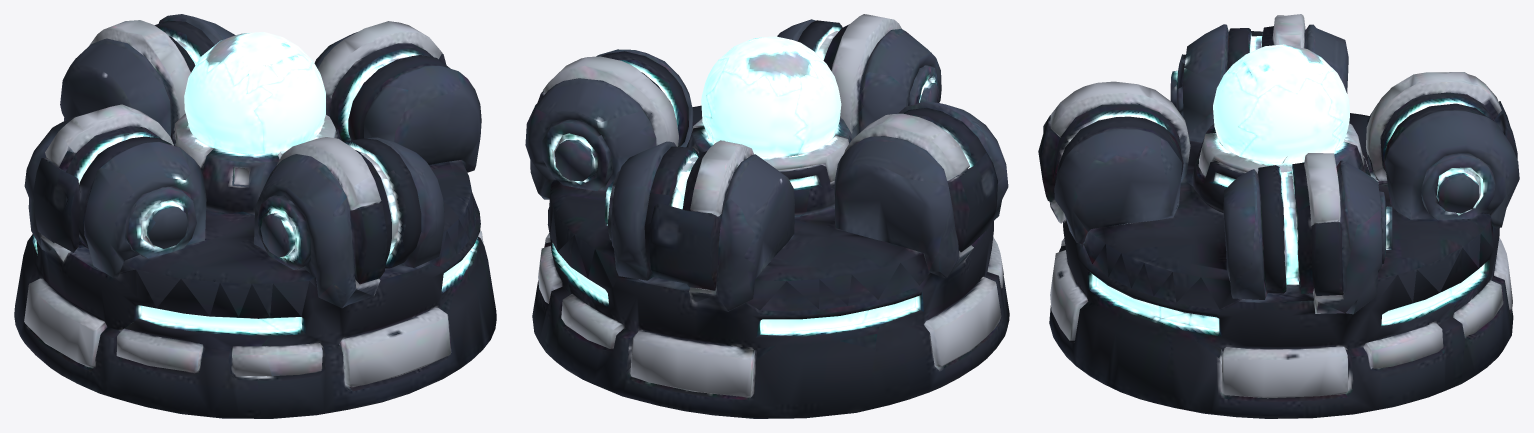
File: warrior-3-tier-3.glb
3 views of the same model, side by side, from view 1: azimuth 30°, elevation 25°; view 2: azimuth 150°, elevation 25°; view 3: azimuth 270°, elevation 25° (orthographic). The views are drawn at different scales.
Visible parts, largest first — view 1: moving-assembly, fixed-platform; view 2: moving-assembly, fixed-platform; view 3: moving-assembly, fixed-platform.
Part boxes in pixels (<box>): moving-assembly: <box>24,14,481,316</box>; fixed-platform: <box>14,192,496,418</box>; moving-assembly: <box>525,14,1008,310</box>; fixed-platform: <box>532,195,1009,418</box>; moving-assembly: <box>1038,14,1519,313</box>; fixed-platform: <box>1049,208,1513,418</box>.
Bounding box in the file's own units: 0.7939 × 0.5099 × 0.8057.
Materials: 1 (1 with a texture image).
